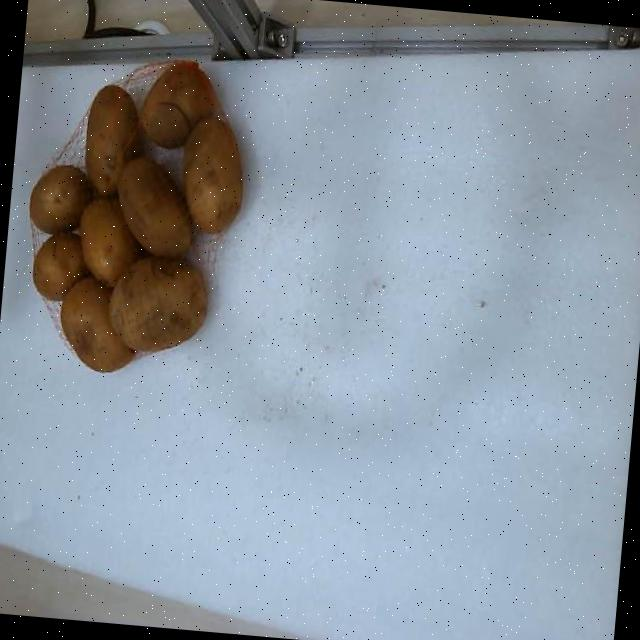potato: (107, 256, 206, 351), (116, 156, 190, 256), (59, 275, 134, 371), (182, 117, 241, 232), (139, 61, 212, 147), (84, 85, 140, 194), (79, 197, 139, 285), (28, 164, 91, 232), (31, 231, 87, 300)
